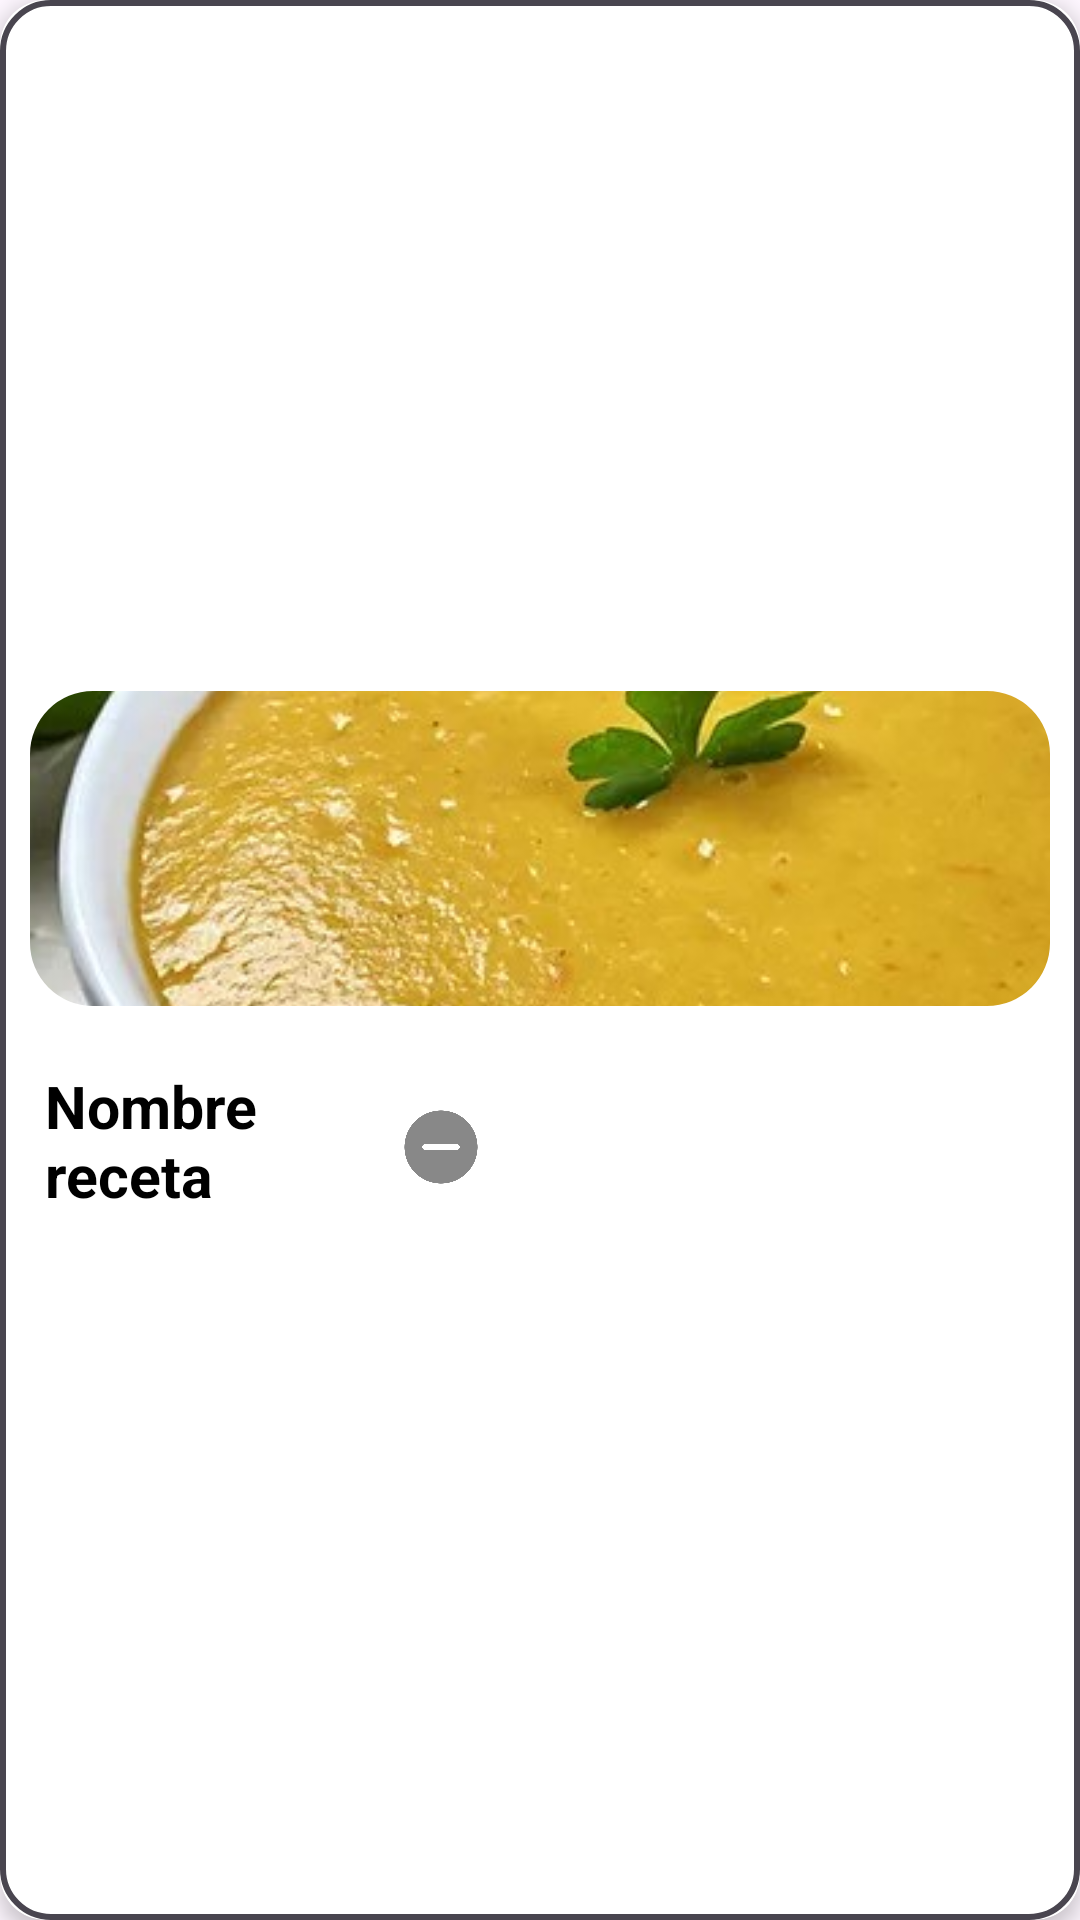

Icons on this 1080 x 1920 Android screen, each with its box as (left=x1, top=y1, right=x2, bottom=y2):
delete: (left=404, top=1110, right=478, bottom=1184)
